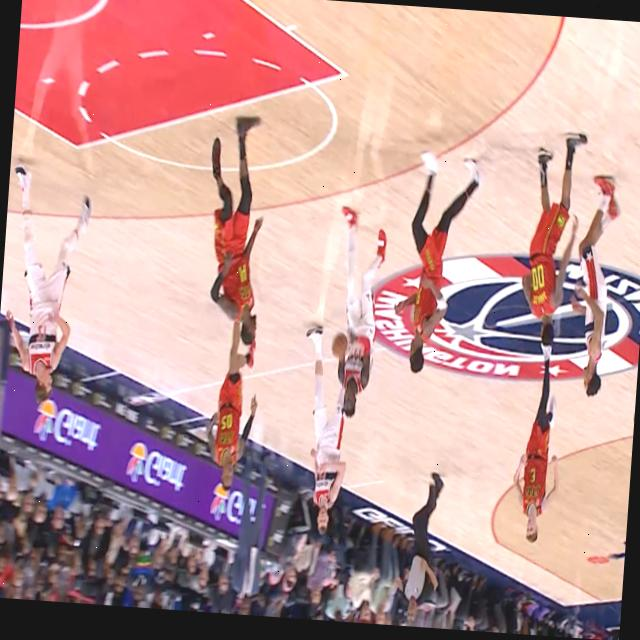no foul: (314, 132, 486, 441), (499, 110, 640, 420)
